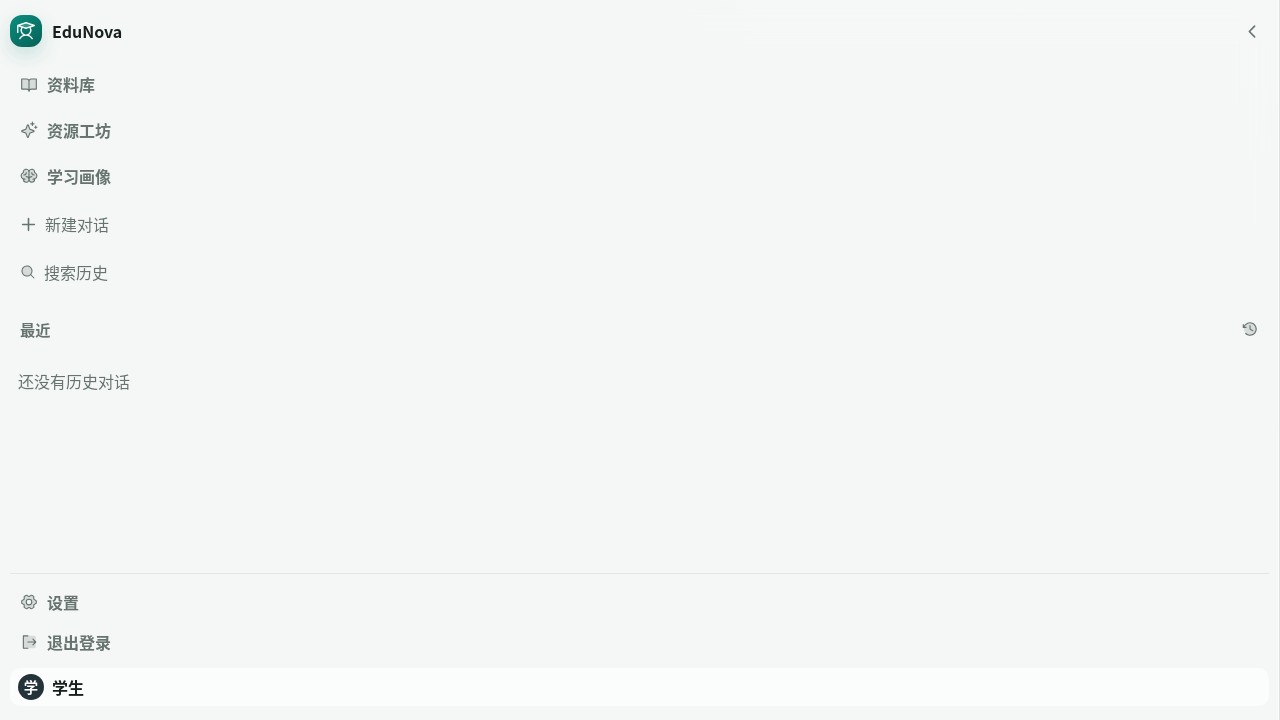
历史搜索防抖后交给服务端并展示正文匹配片段
Click the button "搜索历史" at (76, 272), box [10,252,1269,292]
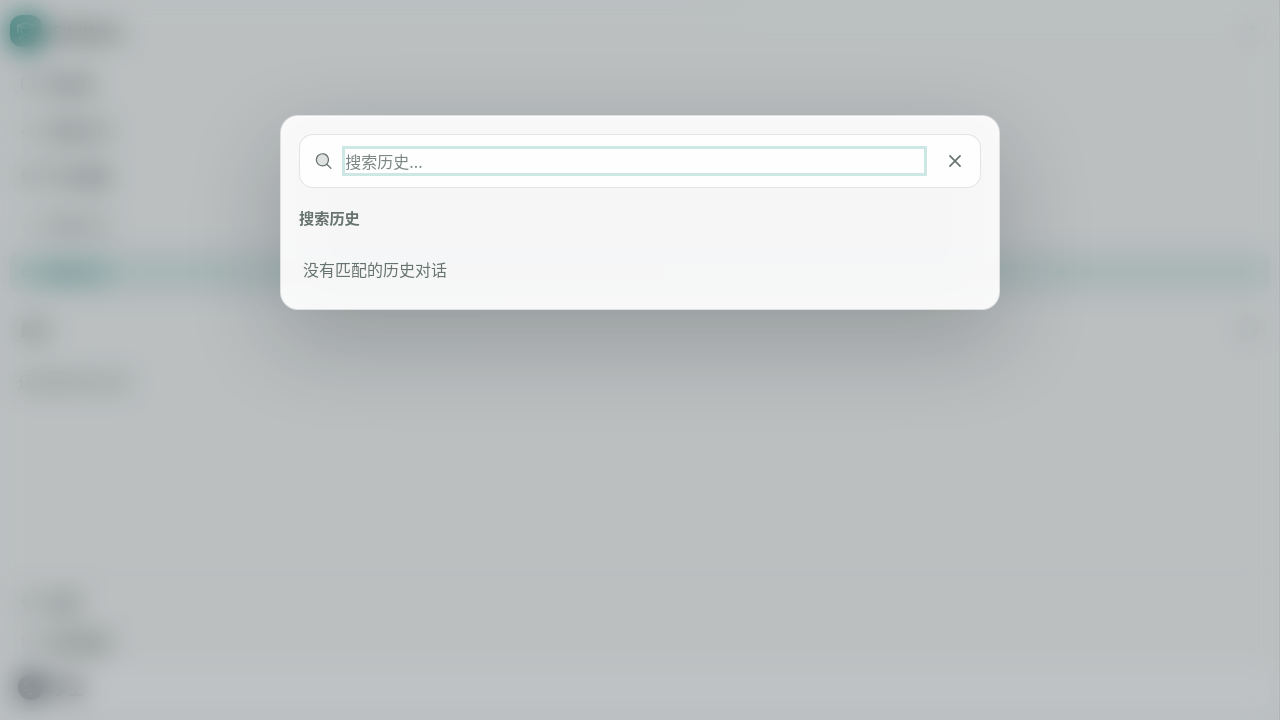
Type "链式法则" into the search field named "搜索历史关键词" at (635, 161), box [345,149,924,173]
Wait 250 ms
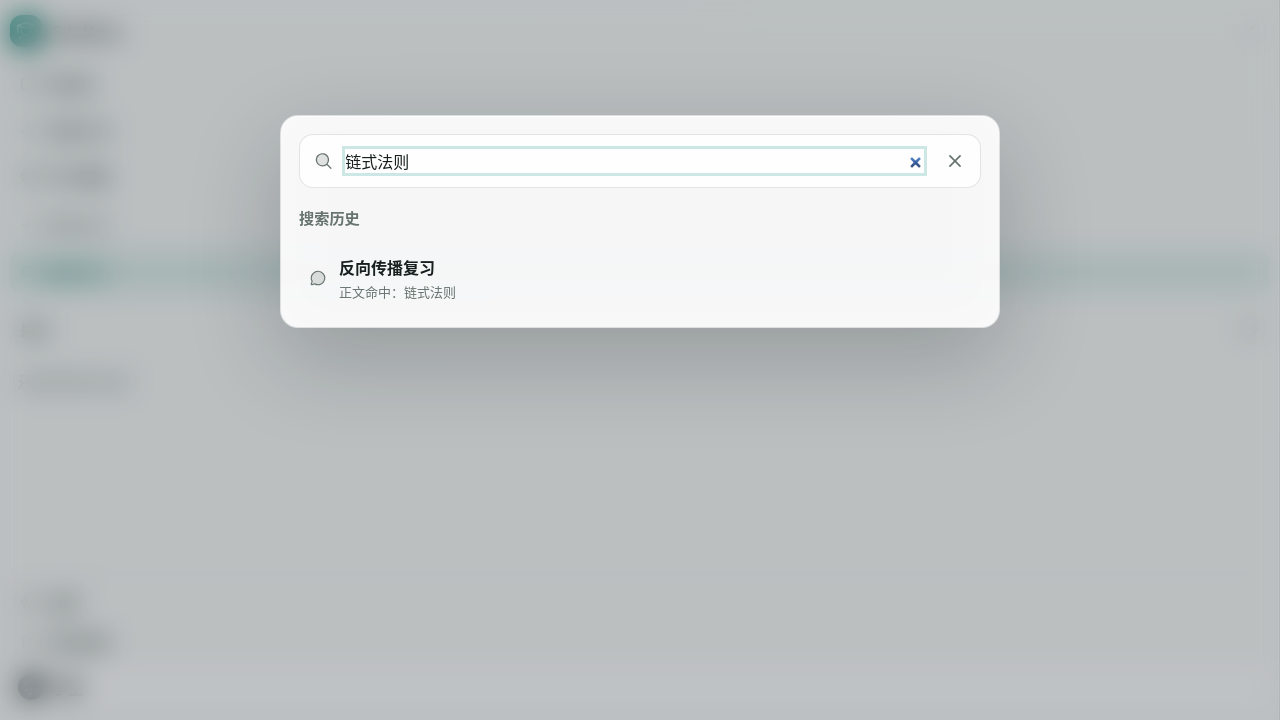
Now the button "反向传播复习 正文命中：链式法则" is shown, box [299,247,981,310]
